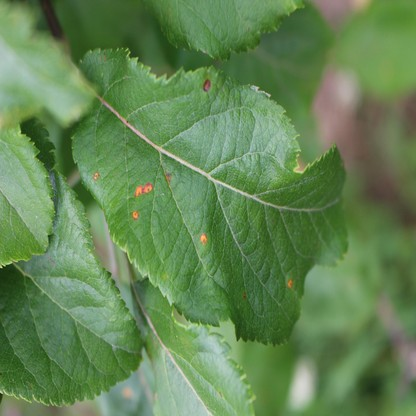rust: (134, 182, 153, 195), (122, 388, 132, 398), (203, 78, 210, 92), (132, 209, 138, 220), (201, 231, 206, 243), (165, 173, 170, 185), (92, 171, 97, 181), (287, 278, 293, 286)
